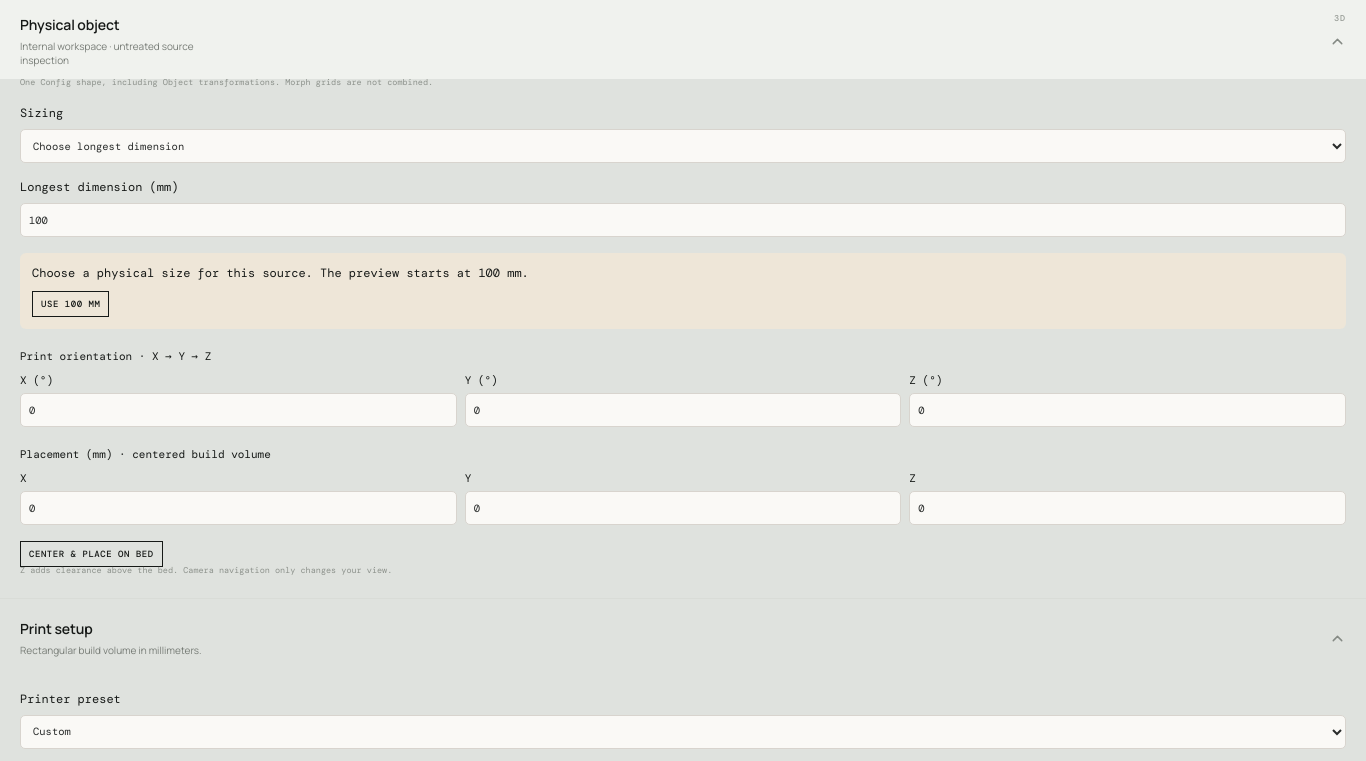
Test: keeps signed numeric drafts editable, restores invalid drafts, and follows external undo
Clear the number field named "Print rotation X" at [238, 410], box [20, 393, 457, 427]
Type "-45" into the number field named "Print rotation X".
click(238, 410); type("-45")  # box [20, 393, 457, 427]
Replace the text in the number field named "Print rotation X" with "-999" at [238, 410], box [20, 393, 457, 427]
(page scrolled)
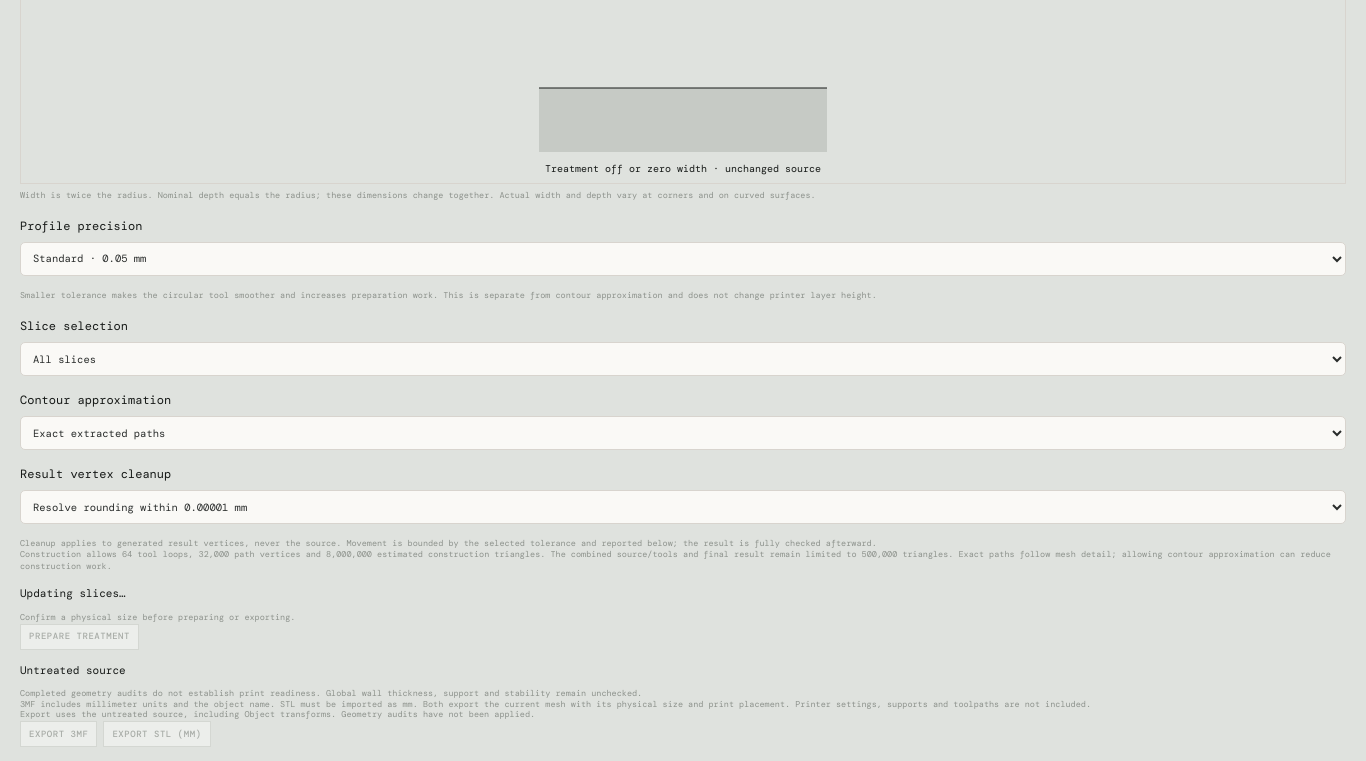
Select "Exact coordinates only" in the dropdown labelled "Result vertex cleanup" at [683, 507], box [20, 490, 1346, 524]
(page scrolled)
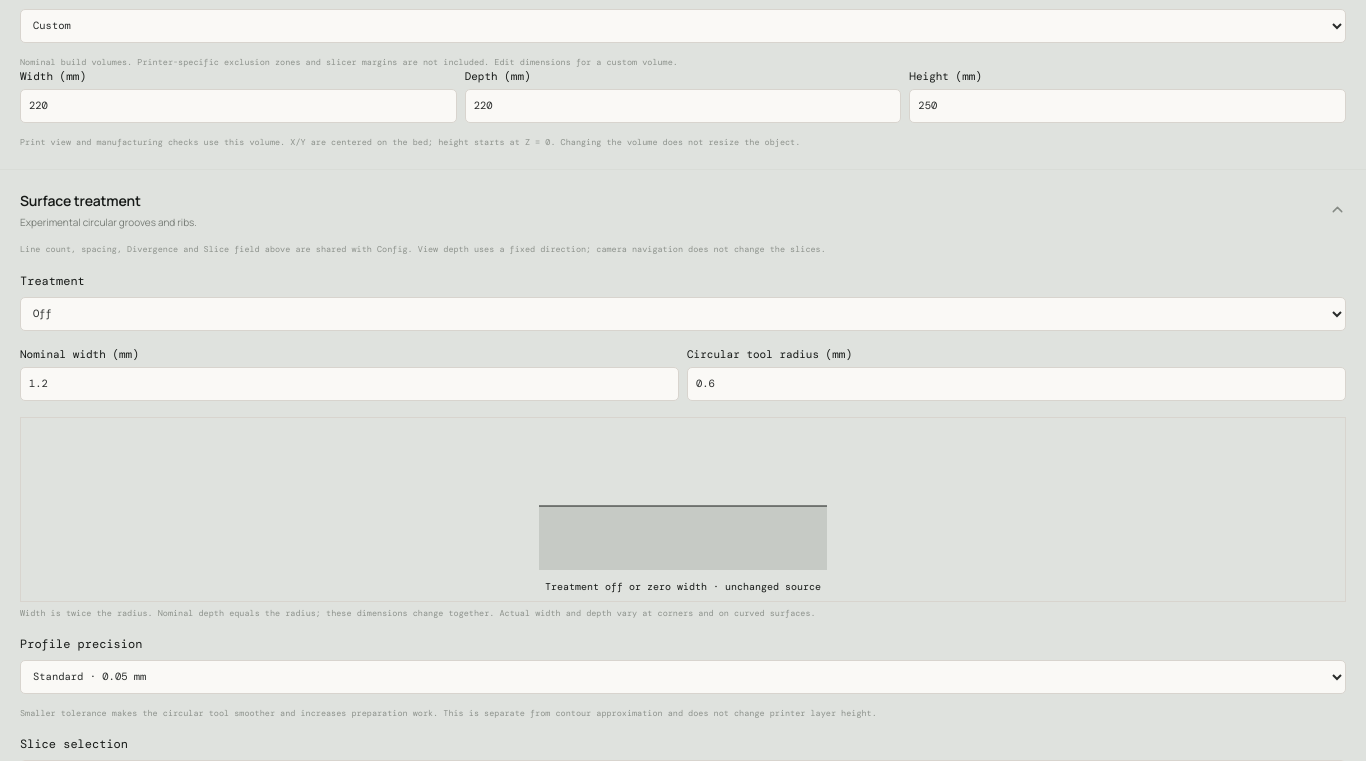
Replace the text in the number field labelled "Nominal width (mm)" with "2.4" at [350, 384], box [20, 367, 679, 401]
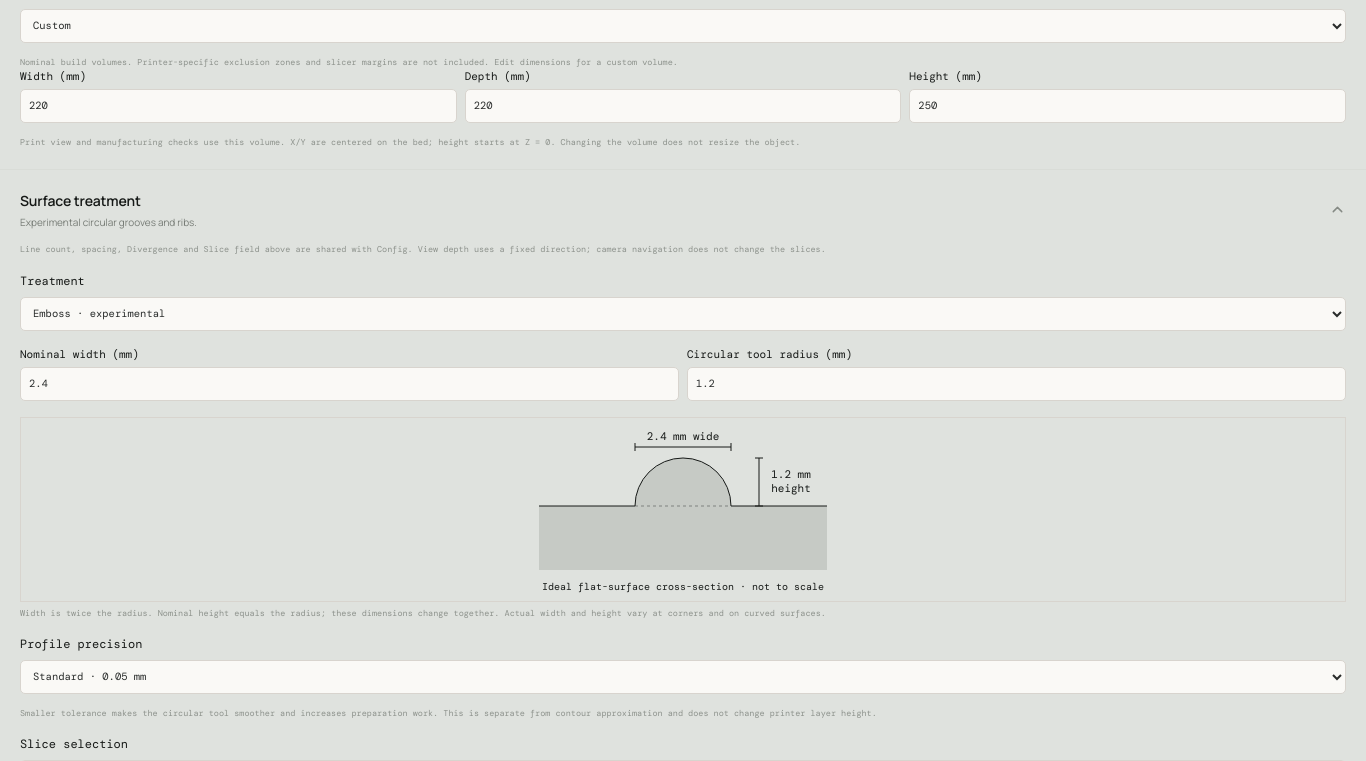
Result: the number field labelled "Circular tool radius (mm)" holds "1.2" at [687, 367, 1346, 401]
Result: the picture named "nominal width 2.4 mm, height 1.2 mm" is shown at [29, 430, 1337, 580]
Select "Fine · 0.02 mm" in the dropdown labelled "Profile precision" at [683, 677], box [20, 660, 1346, 694]
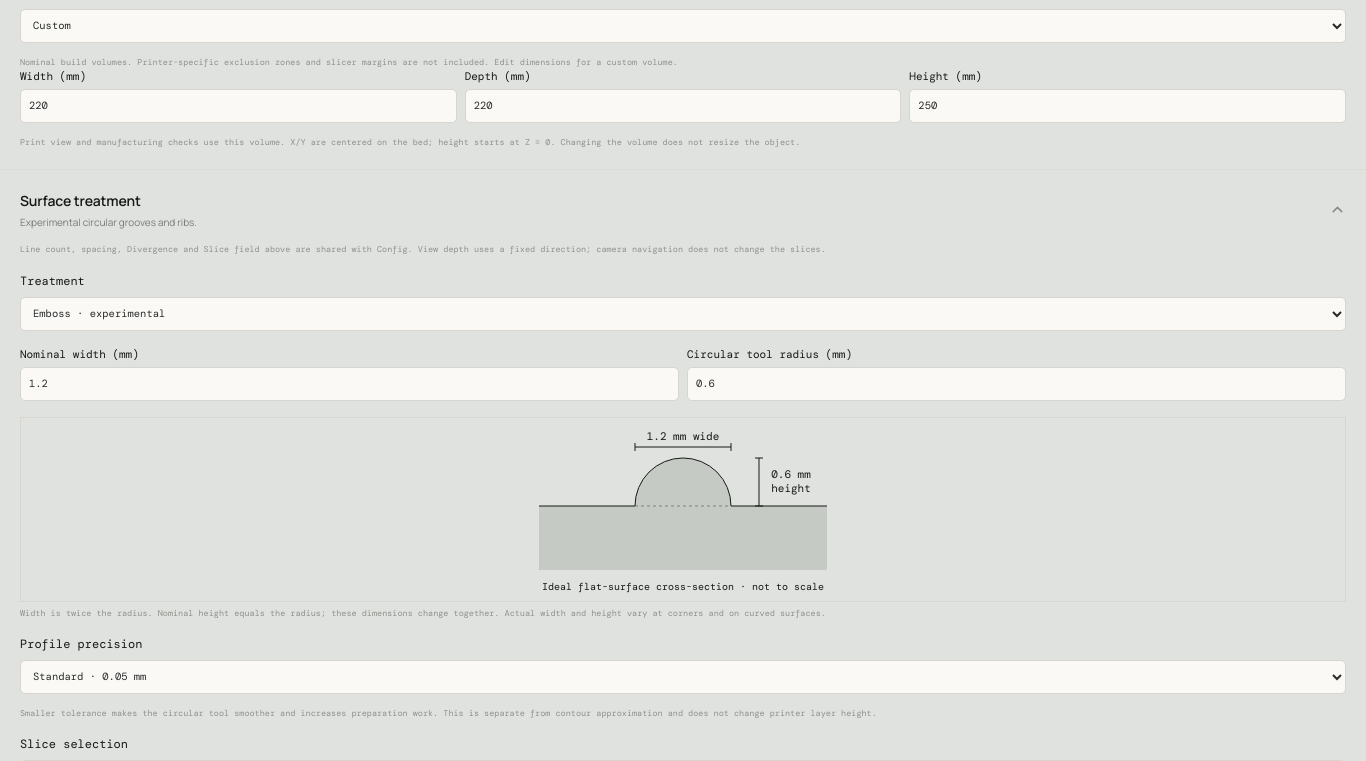
Result: the number field labelled "Nominal width (mm)" holds "1.2" at [20, 367, 679, 401]
Replace the text in the number field named "Build width (mm)" with "180" at [238, 106], box [20, 89, 457, 123]
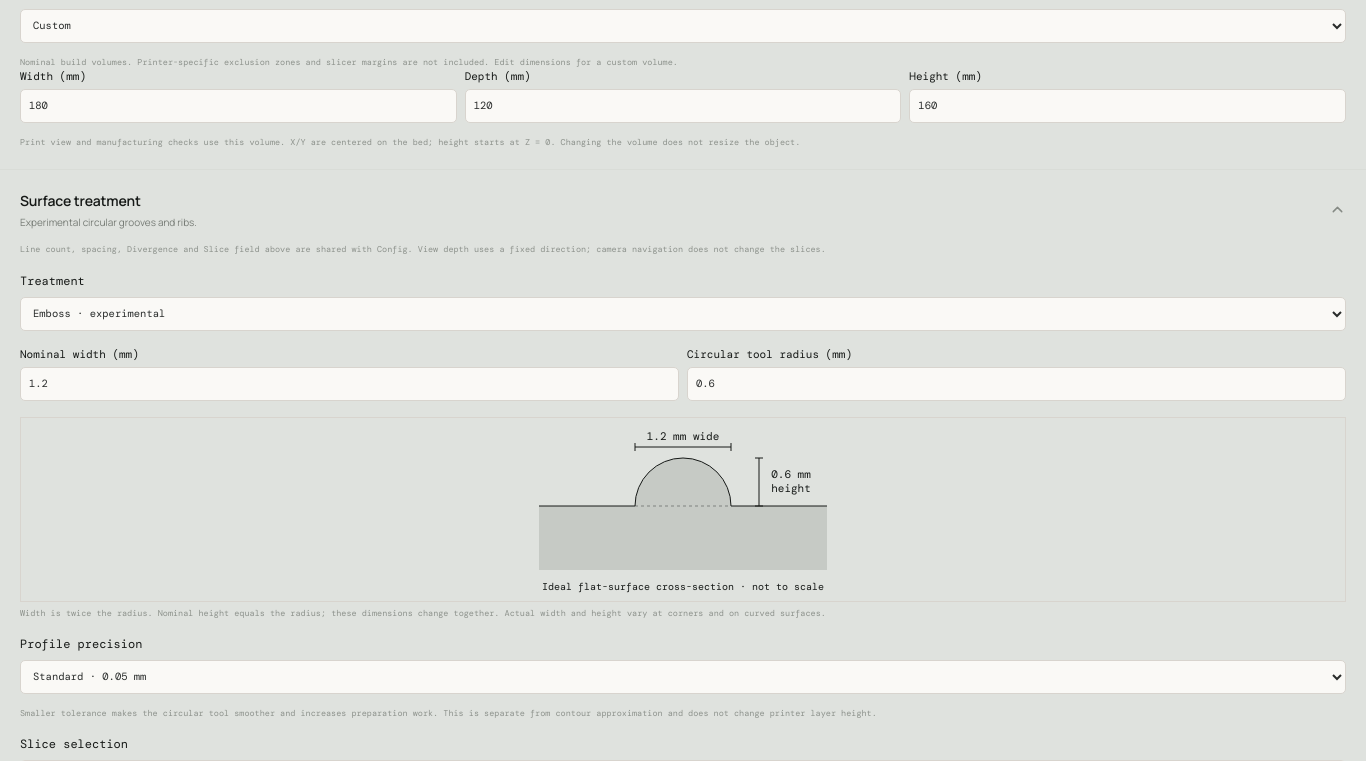
Expected: the number field named "Build depth (mm)" holds "120", [465, 89, 901, 123]
Result: the dropdown labelled "Printer preset" shows "Custom"
Result: the number field named "Build height (mm)" holds "160" at [909, 89, 1346, 123]
Select "P1S · 256 × 256 × 256 mm" in the dropdown labelled "Printer preset" at [683, 26], box [20, 9, 1346, 43]
(page scrolled)
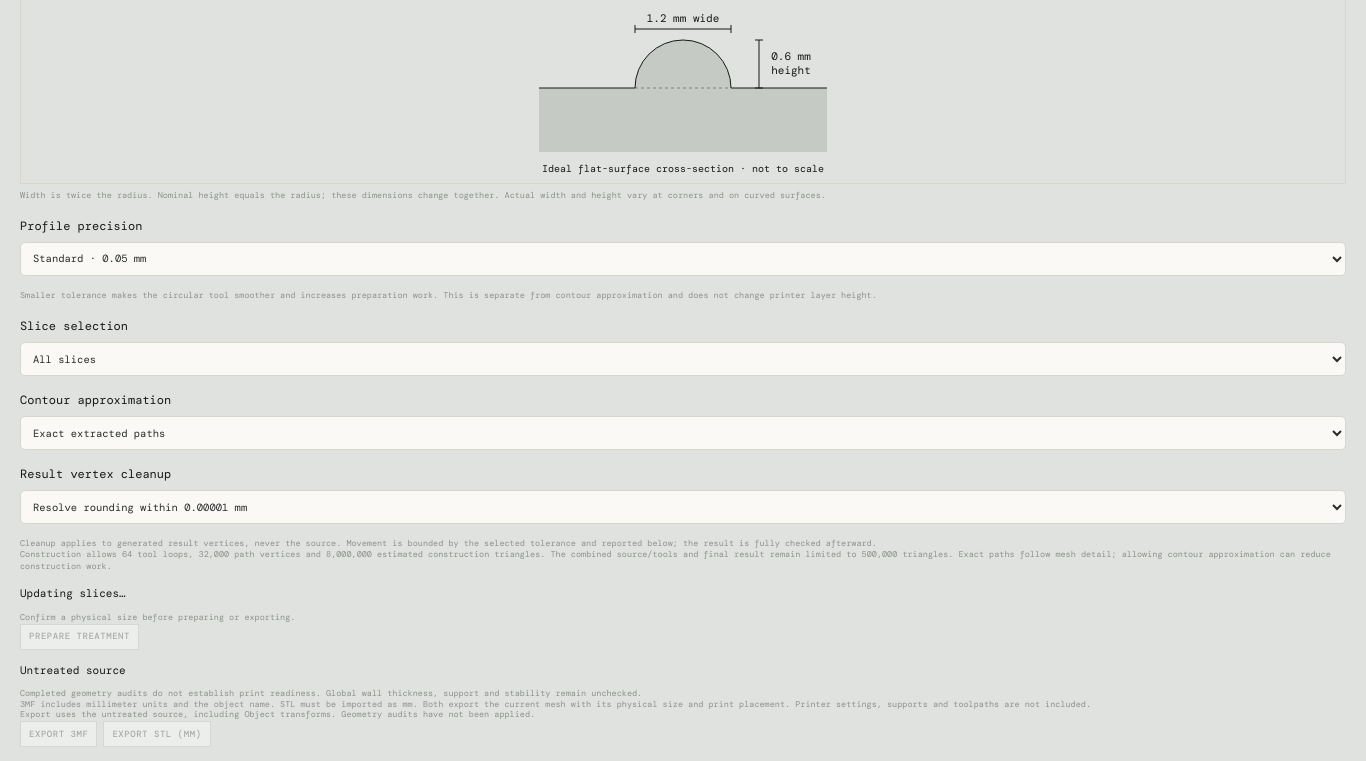
Result: the button "Export STL (mm)" is disabled at [103, 721, 210, 747]
